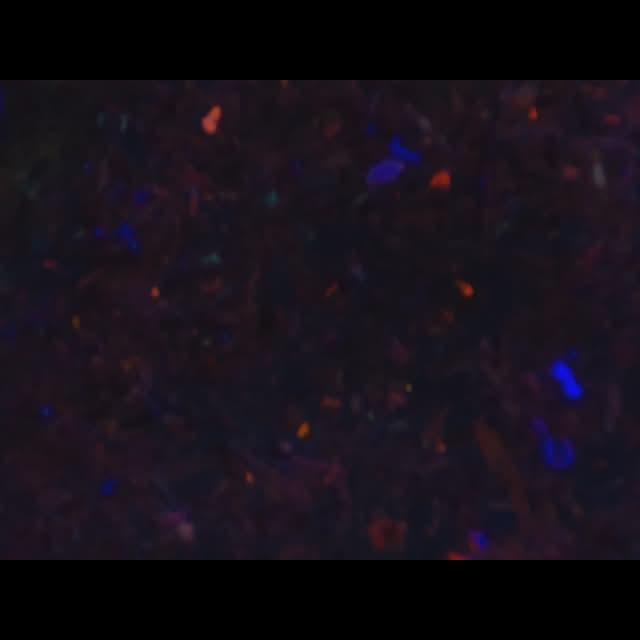Fragment: (202, 105, 222, 135)
